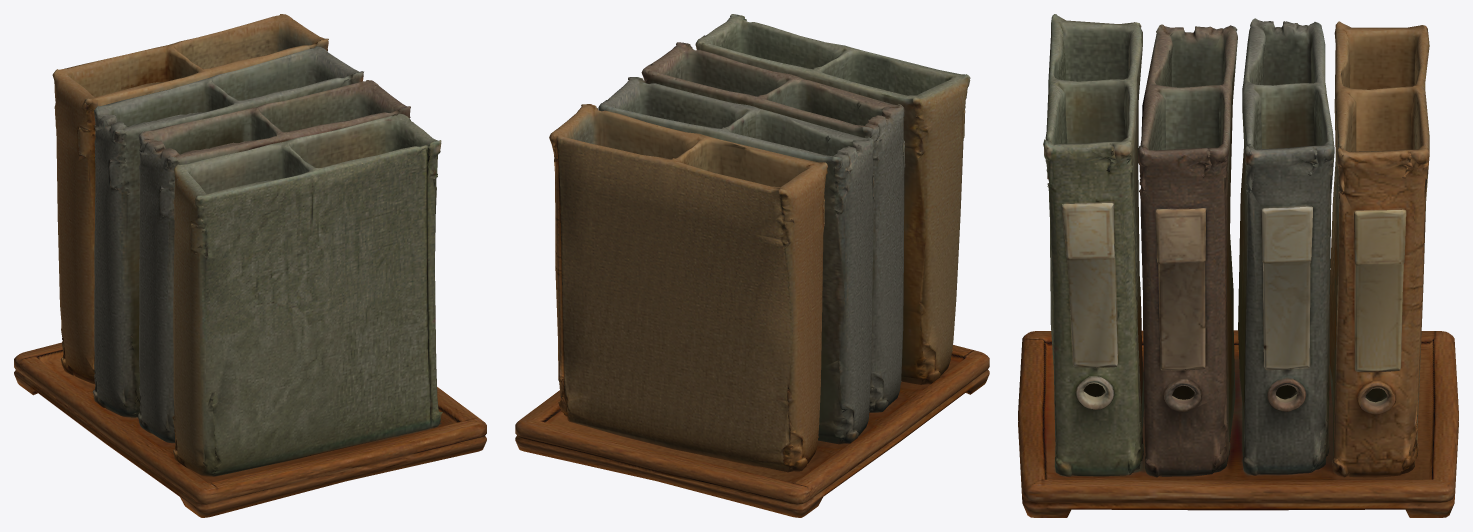
3 renders of one model, left to right at view 1: azimuth 30°, elevation 25°; view 2: azimuth 150°, elevation 25°; view 3: azimuth 270°, elevation 25°, orthographic. The views are drawn at different scales.
Parts seen in each view (by area): view 1: tripo_node_add75ed9-a308-489d-82f8-f0d243166c99; view 2: tripo_node_add75ed9-a308-489d-82f8-f0d243166c99; view 3: tripo_node_add75ed9-a308-489d-82f8-f0d243166c99.
Boxes of the visible parts, box(x1,y1,x2,y2) form: tripo_node_add75ed9-a308-489d-82f8-f0d243166c99: box(14, 14, 486, 517); tripo_node_add75ed9-a308-489d-82f8-f0d243166c99: box(515, 14, 989, 517); tripo_node_add75ed9-a308-489d-82f8-f0d243166c99: box(1018, 14, 1458, 517).
Bounding box in the file's own units: 0.8613 × 0.8887 × 0.998.
1 material, 1 textured.
